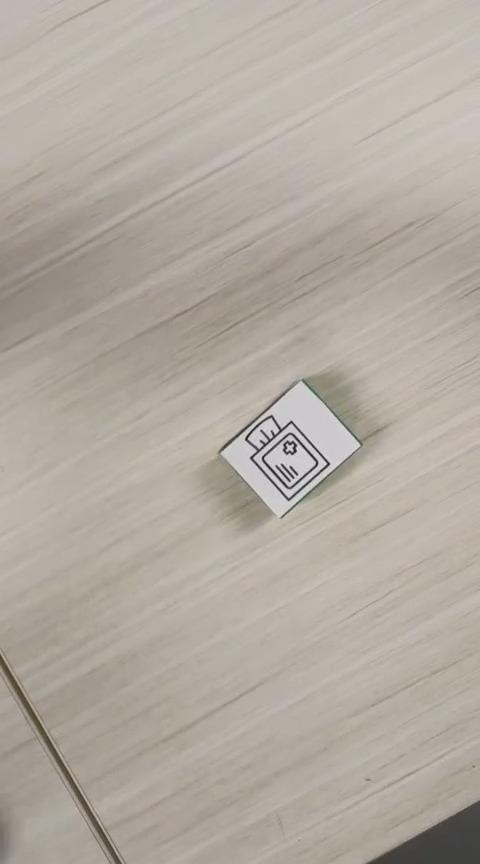Gauze: (216, 376, 362, 519)
